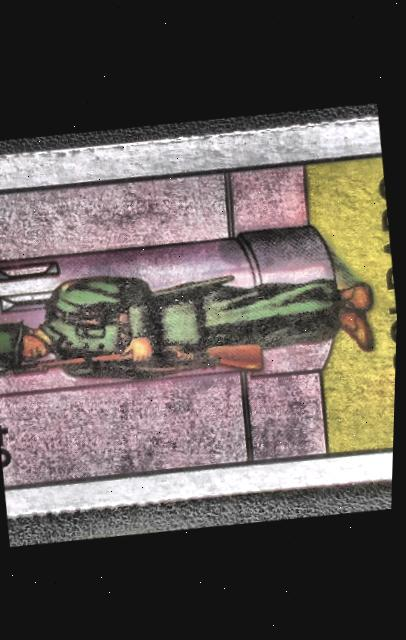El Soldado: (0, 130, 403, 504)
